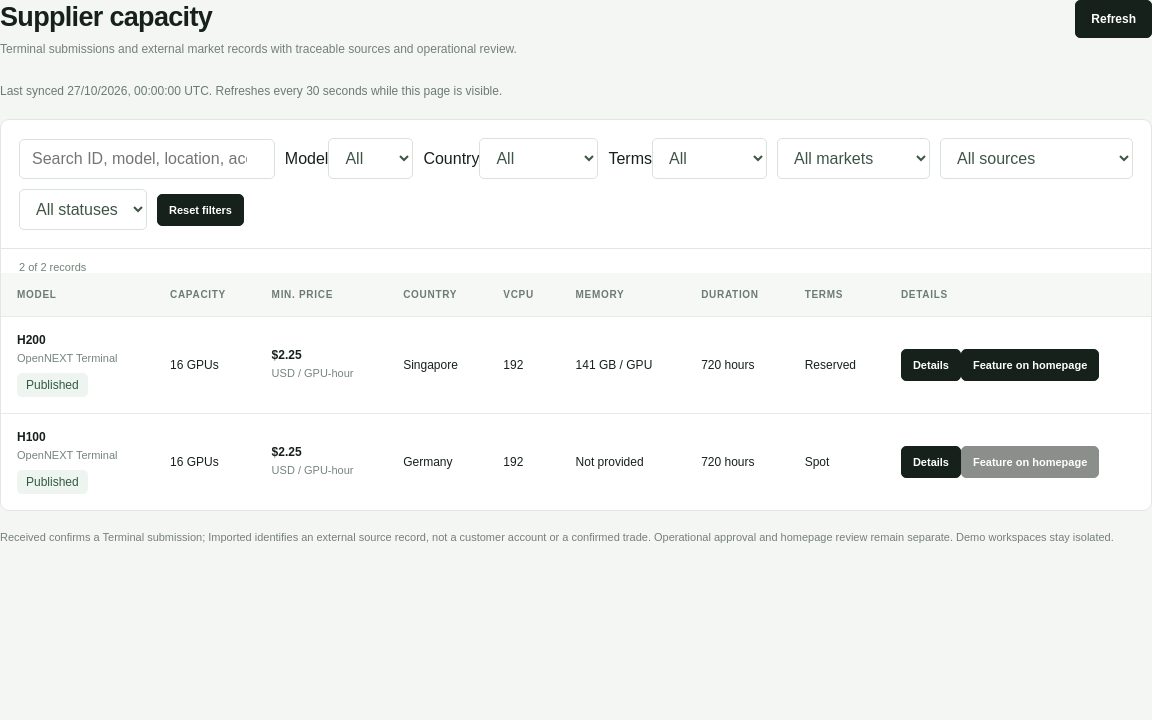
Scenario: Supplier capacity inbox › filters the Terminal-aligned table and opens the submitted supply form in place
expect the text "2 of 2 records" is shown: met, box [19,262,86,274]
Select "Singapore" in the dropdown labelled "Country" at [539, 159], box [479,138,598,180]
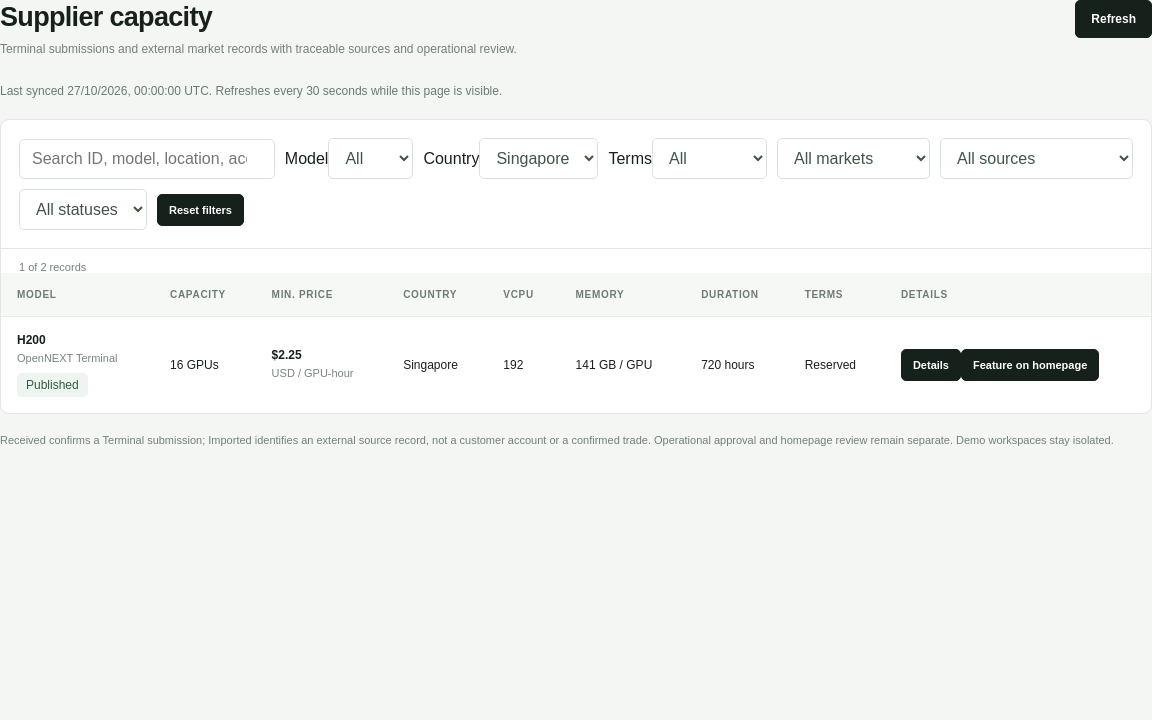
expect the text "1 of 2 records" is shown: met, box [19,262,86,274]
Click the button "Details".
click(931, 365)  # box [901,349,961,381]
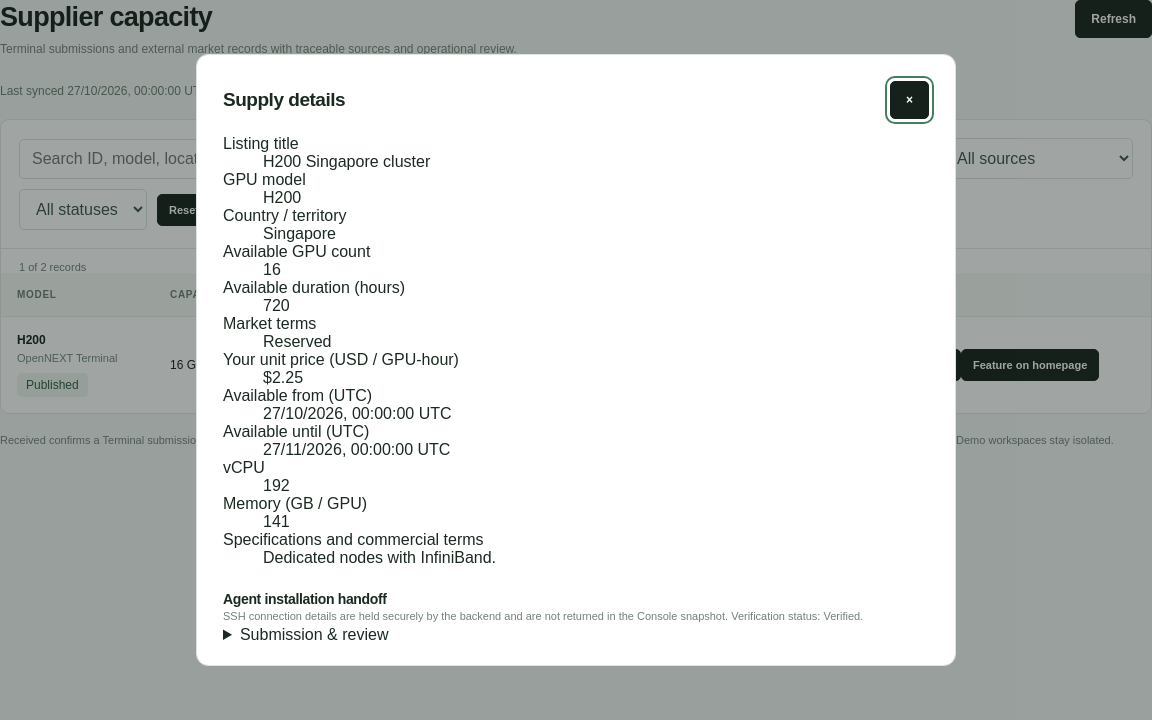
expect the text "Available duration (hours)" is shown: met, box [223,279,405,296]
expect the text "Dedicated nodes with InfiniBand." is shown: met, box [263,549,496,566]
